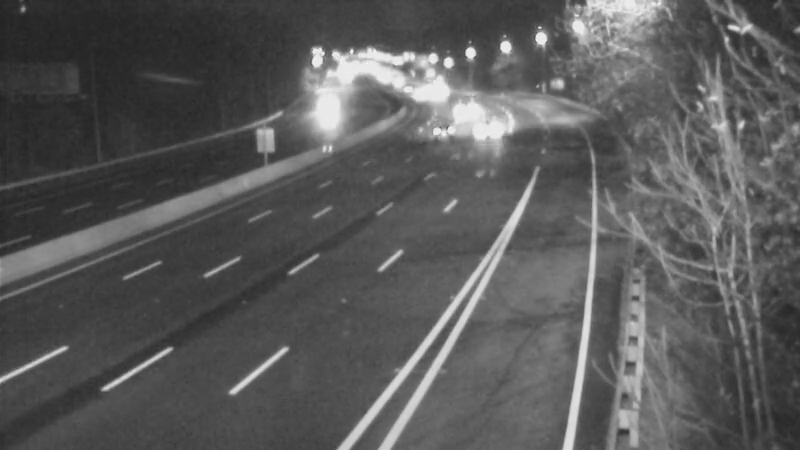vehicle: (434, 82, 484, 132), (425, 101, 475, 151), (457, 109, 507, 159), (303, 81, 353, 131)
